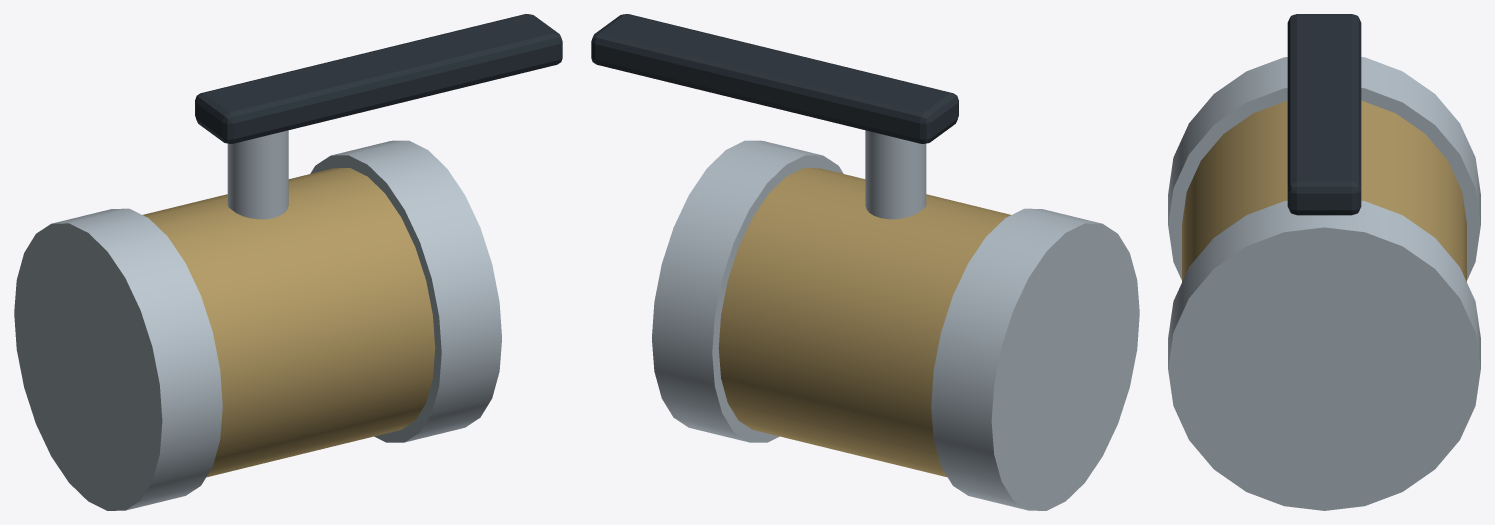
The model's file is SM_IsolationValve.glb.
3 views of the same model, side by side, from view 1: azimuth 30°, elevation 25°; view 2: azimuth 150°, elevation 25°; view 3: azimuth 270°, elevation 25° (orthographic). The views are drawn at different scales.
Visible parts, largest first — view 1: SM_IsolationValve; view 2: SM_IsolationValve; view 3: SM_IsolationValve.
Part boxes in pixels (x1=…): SM_IsolationValve: x1=14, y1=14, x2=562, y2=510; SM_IsolationValve: x1=591, y1=14, x2=1139, y2=510; SM_IsolationValve: x1=1168, y1=14, x2=1480, y2=510.
Size of the model in its own units: 0.122 by 0.093 by 0.068.
